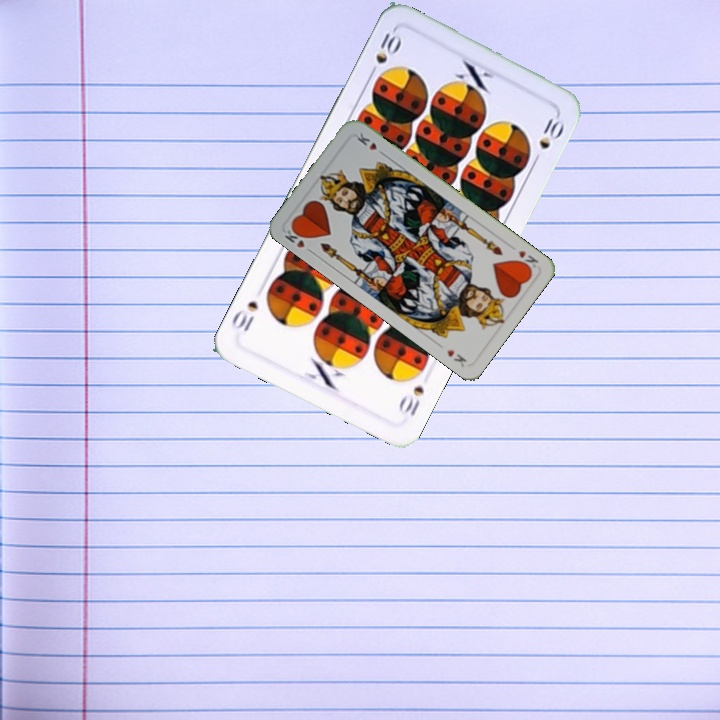HK: (281, 223, 316, 256), (513, 246, 541, 273)
S10: (364, 26, 404, 80), (401, 381, 427, 420)
